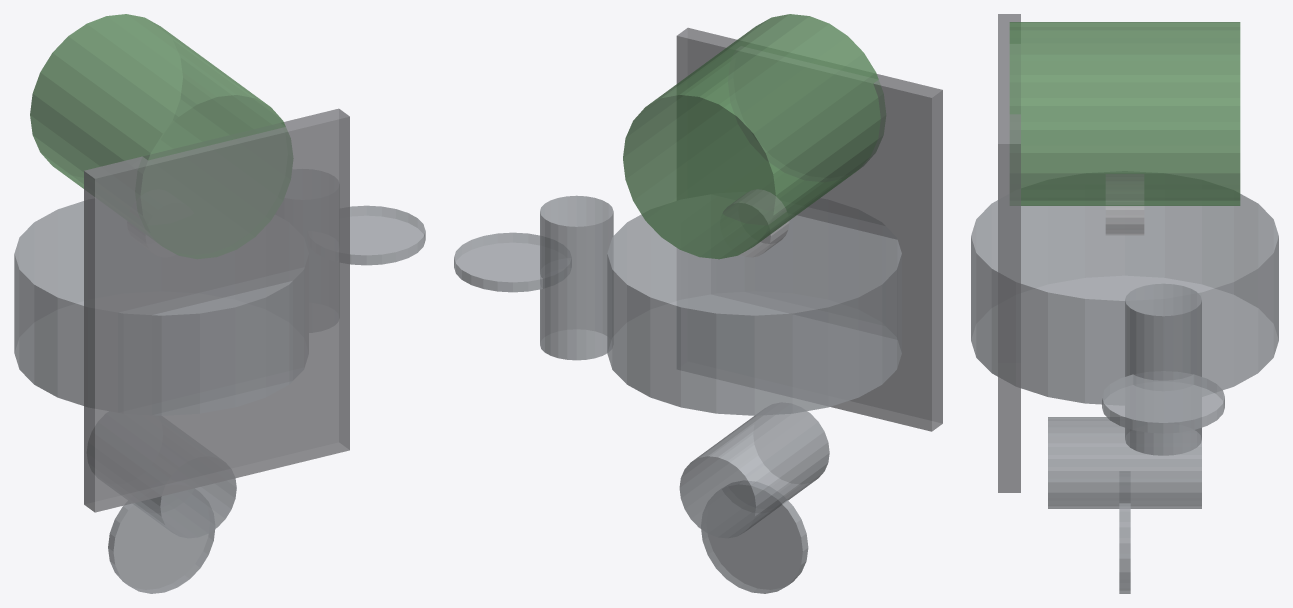
File: centrifugal_pump.glb
3 renders of one model, left to right at view 1: azimuth 30°, elevation 25°; view 2: azimuth 150°, elevation 25°; view 3: azimuth 270°, elevation 25°, orthographic. The views are drawn at different scales.
Visible parts, largest first — view 1: Base, Motor, Volute, Flange, Flange.001, Inlet; view 2: Base, Volute, Motor, Inlet, Outlet, Flange, Flange.001, Coupling; view 3: Volute, Motor, Inlet, Base, Outlet, Flange.001, Coupling, Flange.
Part boxes in pixels (bbox=[...]): Base: bbox=[84, 108, 349, 512]; Motor: bbox=[30, 14, 293, 258]; Volute: bbox=[14, 201, 304, 415]; Flange: bbox=[108, 489, 215, 593]; Flange.001: bbox=[350, 205, 425, 265]; Inlet: bbox=[133, 478, 236, 538]; Base: bbox=[676, 27, 942, 431]; Volute: bbox=[607, 207, 901, 415]; Motor: bbox=[623, 14, 885, 259]; Inlet: bbox=[679, 411, 829, 538]; Outlet: bbox=[540, 195, 613, 360]; Flange: bbox=[701, 480, 808, 593]; Flange.001: bbox=[454, 232, 571, 292]; Coupling: bbox=[722, 189, 789, 257]; Volute: bbox=[971, 194, 1278, 404]; Motor: bbox=[1009, 22, 1240, 205]; Inlet: bbox=[1048, 417, 1201, 508]; Base: bbox=[998, 14, 1020, 492]; Outlet: bbox=[1125, 283, 1201, 455]; Flange.001: bbox=[1102, 371, 1224, 433]; Coupling: bbox=[1105, 174, 1144, 235]; Flange: bbox=[1119, 471, 1130, 593].
Size of the model in its own units: 6.3 by 8 by 4.
